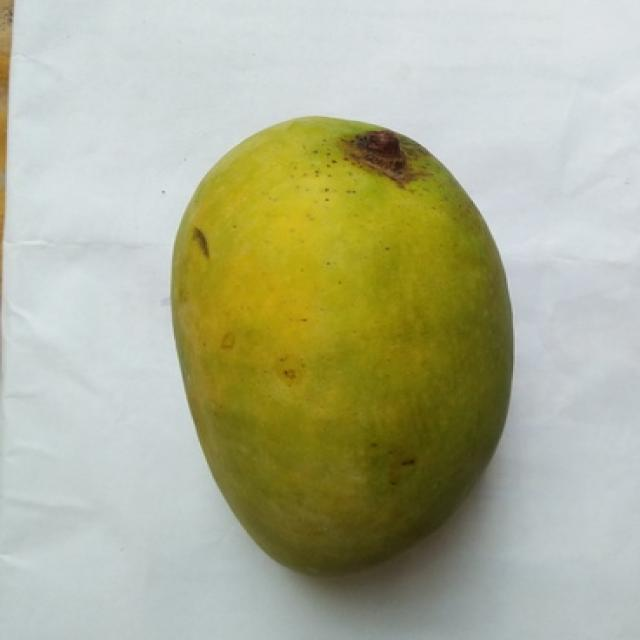Mango: (172, 117, 511, 572)
